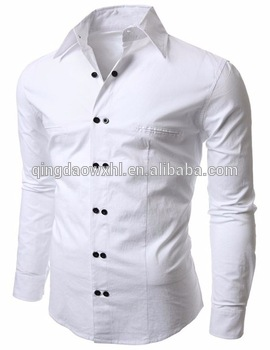Shirt: (13, 4, 257, 344)
